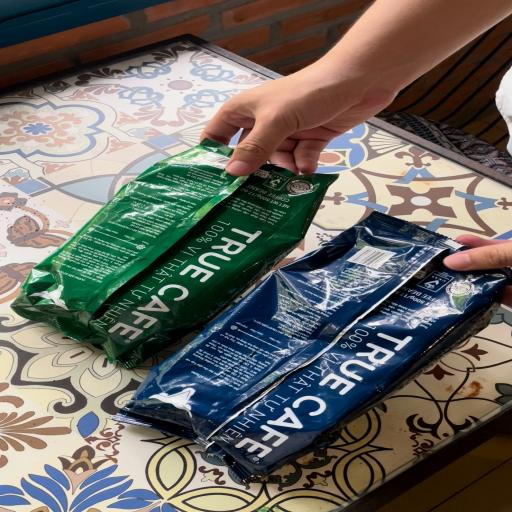cafe_hat: (117, 212, 510, 483)
cafe_xay: (12, 139, 337, 367)
